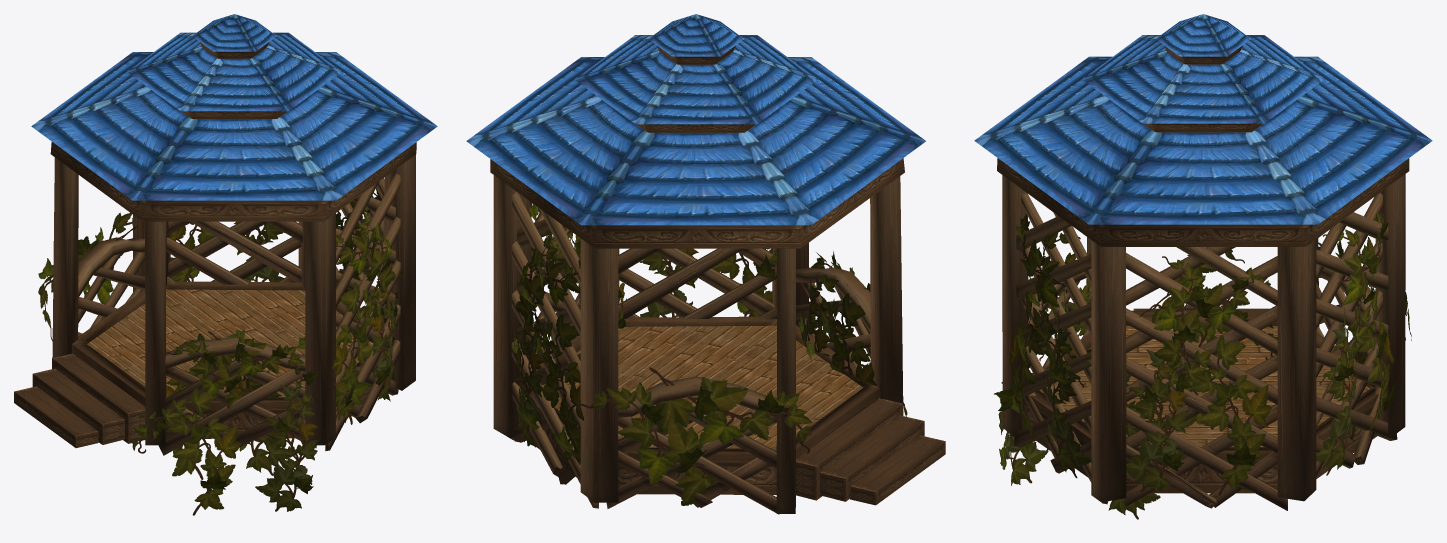
The picture shows the model from 3 angles, left to right: view 1: azimuth 30°, elevation 25°; view 2: azimuth 150°, elevation 25°; view 3: azimuth 270°, elevation 25°; orthographic projection. The views are drawn at different scales.
Bounding box in the file's own units: 7.31 × 9.07 × 7.51.
Materials: 5 (5 with a texture image).
